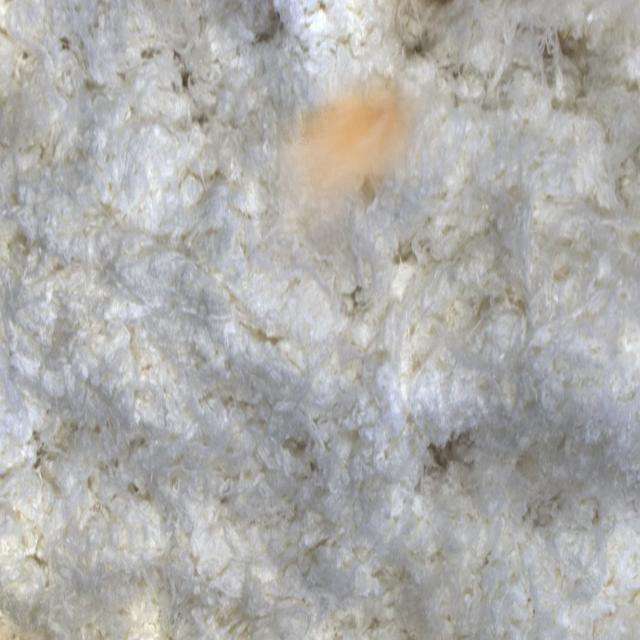dust: (255, 66, 452, 304)
